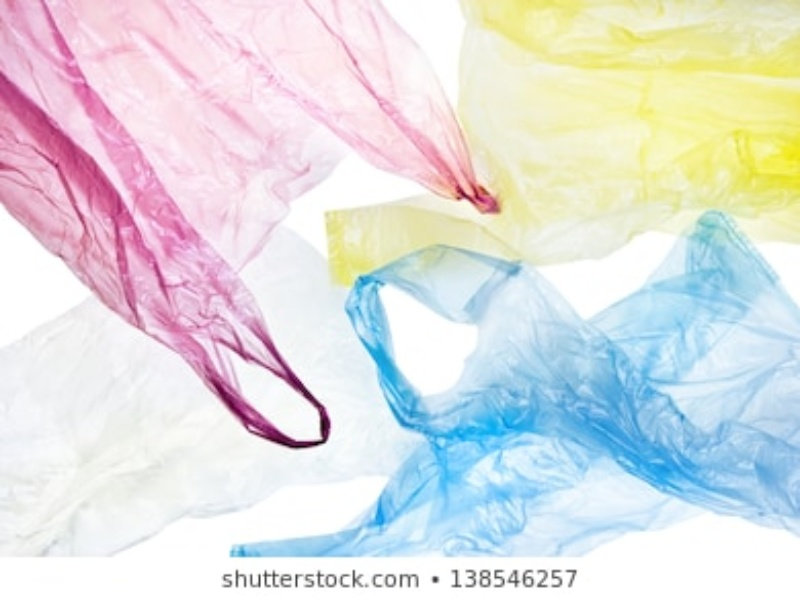plastic-bag: (7, 1, 500, 442), (238, 208, 800, 548), (333, 1, 800, 288)
